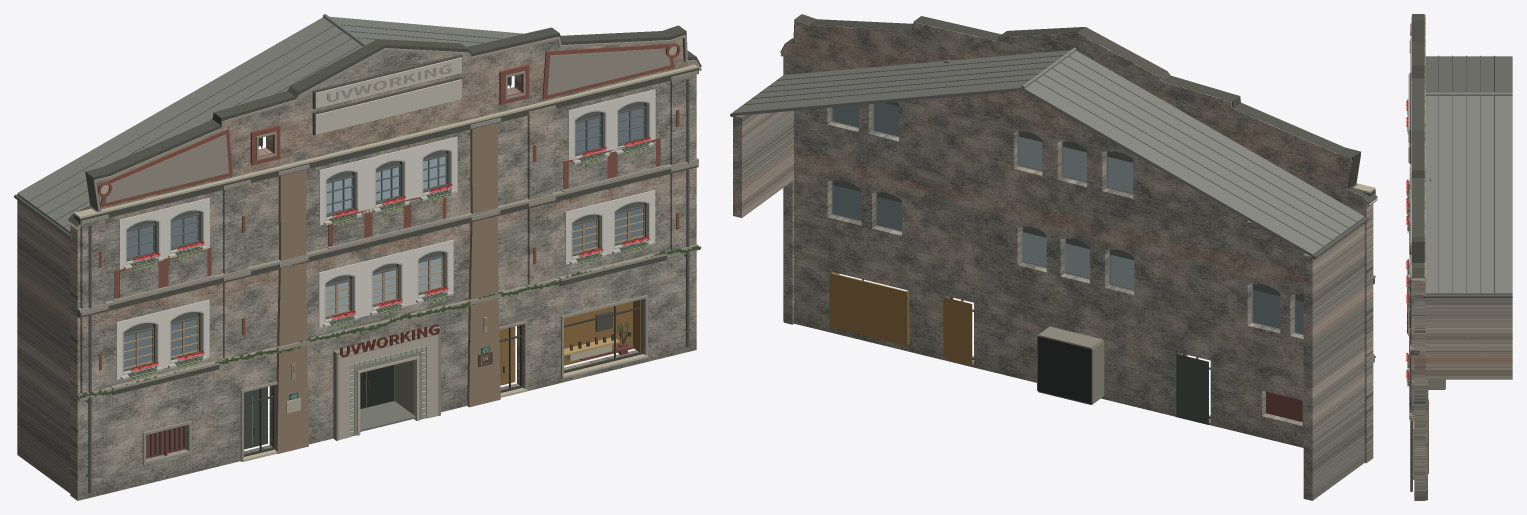
File: huangpu-fifth-textile-warehouse-river-front-raw.glb
3 views of the same model, side by side, from view 1: azimuth 30°, elevation 25°; view 2: azimuth 150°, elevation 25°; view 3: azimuth 270°, elevation 25° (orthographic). The views are drawn at different scales.
Parts seen in each view (by area): view 1: 中国纺织建设公司第五仓库临河弧券窗与中央门洞; view 2: 中国纺织建设公司第五仓库临河弧券窗与中央门洞; view 3: 中国纺织建设公司第五仓库临河弧券窗与中央门洞.
Boxes of the visible parts, left/top/right/bottom form: 中国纺织建设公司第五仓库临河弧券窗与中央门洞: left=14, top=14, right=701, bottom=500; 中国纺织建设公司第五仓库临河弧券窗与中央门洞: left=730, top=14, right=1377, bottom=500; 中国纺织建设公司第五仓库临河弧券窗与中央门洞: left=1406, top=14, right=1512, bottom=500.
Size of the model in its own units: 27.82 by 16.23 by 5.19.
42 materials, 1 textured.
